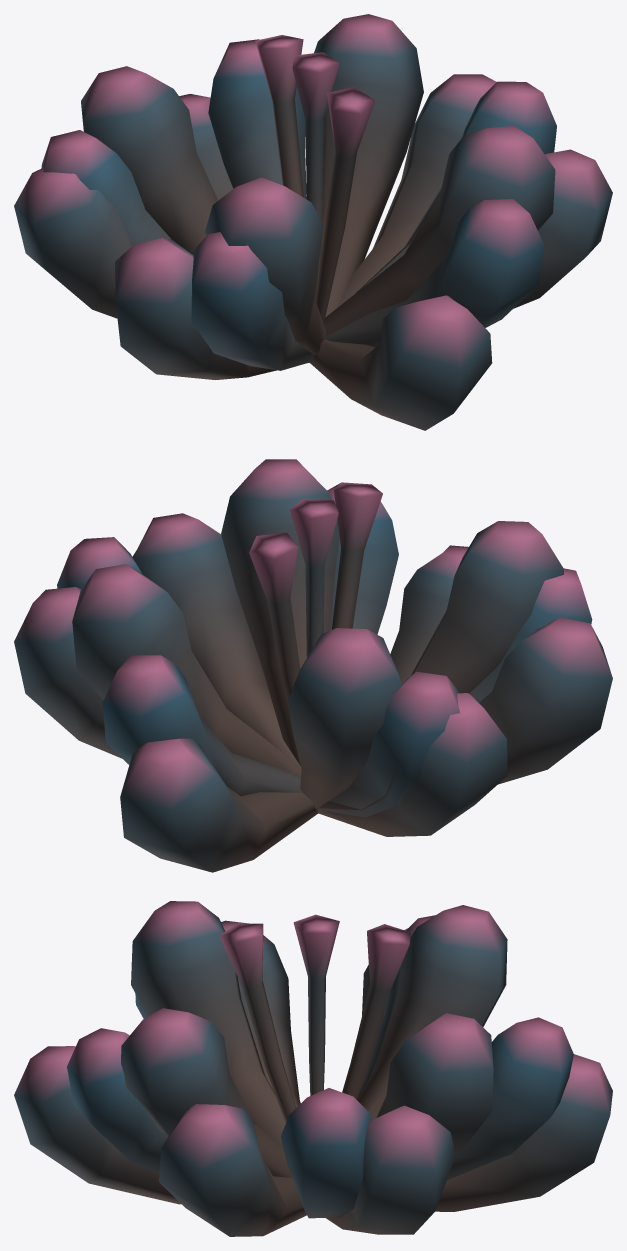
File: plants-cacti-succulents-baby-toes_v5.fbx
The picture shows the model from 3 angles, top to bottom: view 1: azimuth 30°, elevation 25°; view 2: azimuth 150°, elevation 25°; view 3: azimuth 270°, elevation 25°; orthographic projection. The views are drawn at different scales.
Visible parts, largest first — view 1: Baby Toes_v5; view 2: Baby Toes_v5; view 3: Baby Toes_v5.
Boxes of the visible parts, <box> form: Baby Toes_v5: <box>14,14,612,430</box>; Baby Toes_v5: <box>14,459,612,872</box>; Baby Toes_v5: <box>14,901,612,1236</box>.
Size of the model in its own units: 0.1335 by 0.0783 by 0.15.
